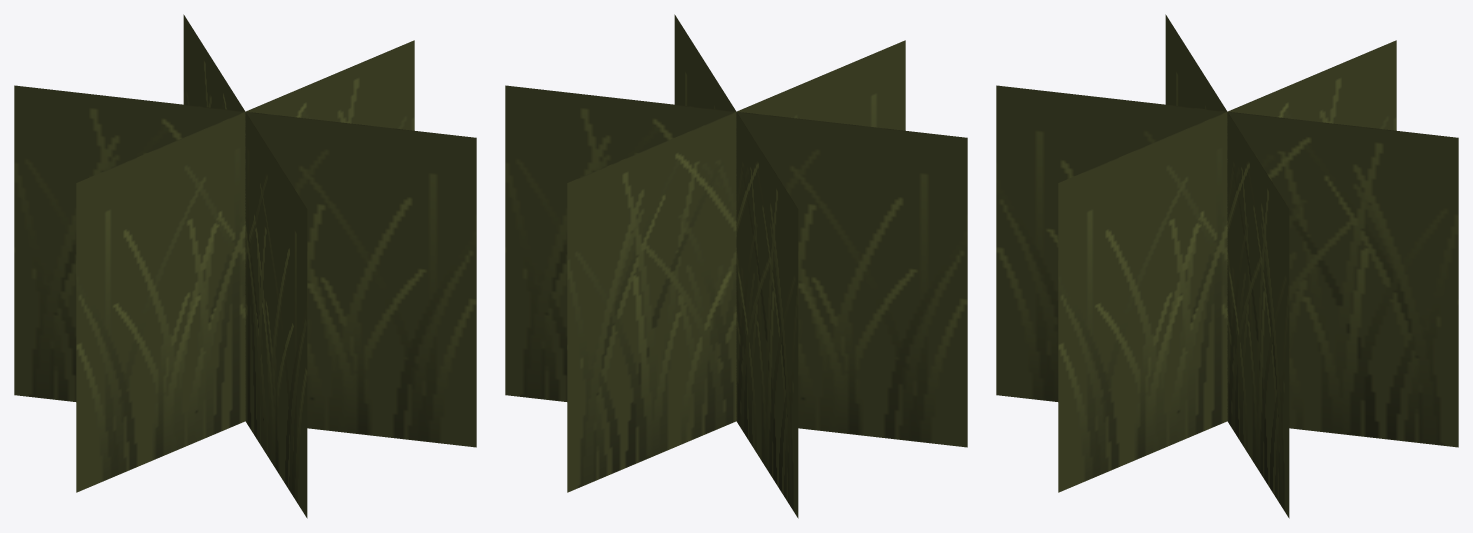
File: grass_tuft.glb
3 views of the same model, side by side, from view 1: azimuth 30°, elevation 25°; view 2: azimuth 150°, elevation 25°; view 3: azimuth 270°, elevation 25° (orthographic).
Visible parts, largest first — view 1: grass_tuft; view 2: grass_tuft; view 3: grass_tuft.
Boxes of the visible parts, left/top/right/bottom form: grass_tuft: left=14, top=14, right=476, bottom=518; grass_tuft: left=505, top=14, right=967, bottom=518; grass_tuft: left=996, top=14, right=1458, bottom=518.
Size of the model in its own units: 0.6761 by 0.5 by 0.6761.
1 material, 1 textured.
